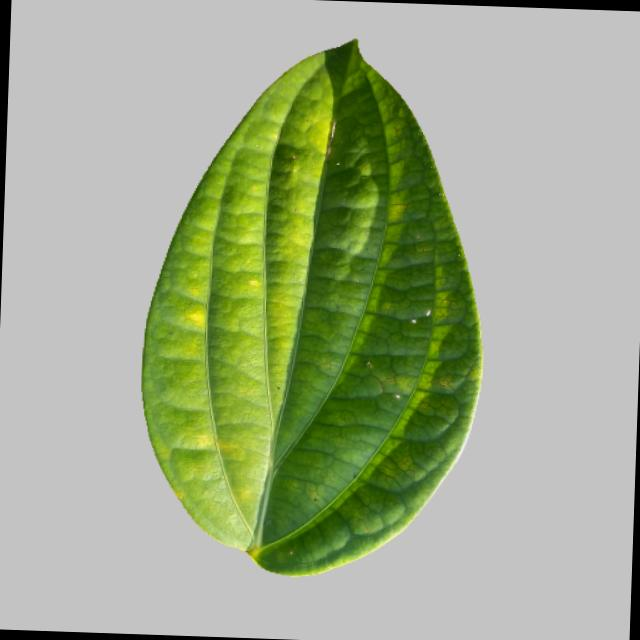healthy: (134, 26, 493, 586)
